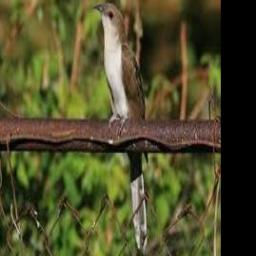Cuckoo: (93, 2, 148, 252)
